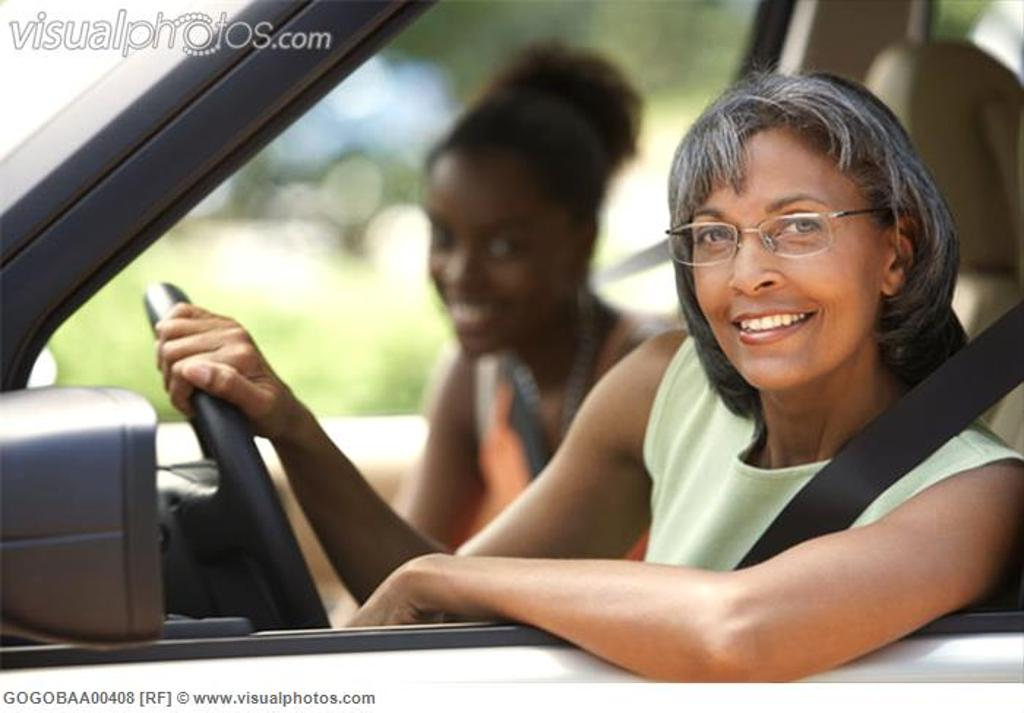face: (692, 152, 874, 388), (430, 178, 546, 350)
